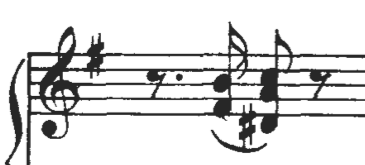sharp: (81, 31, 112, 86)
treble_clef: (35, 24, 82, 144)
